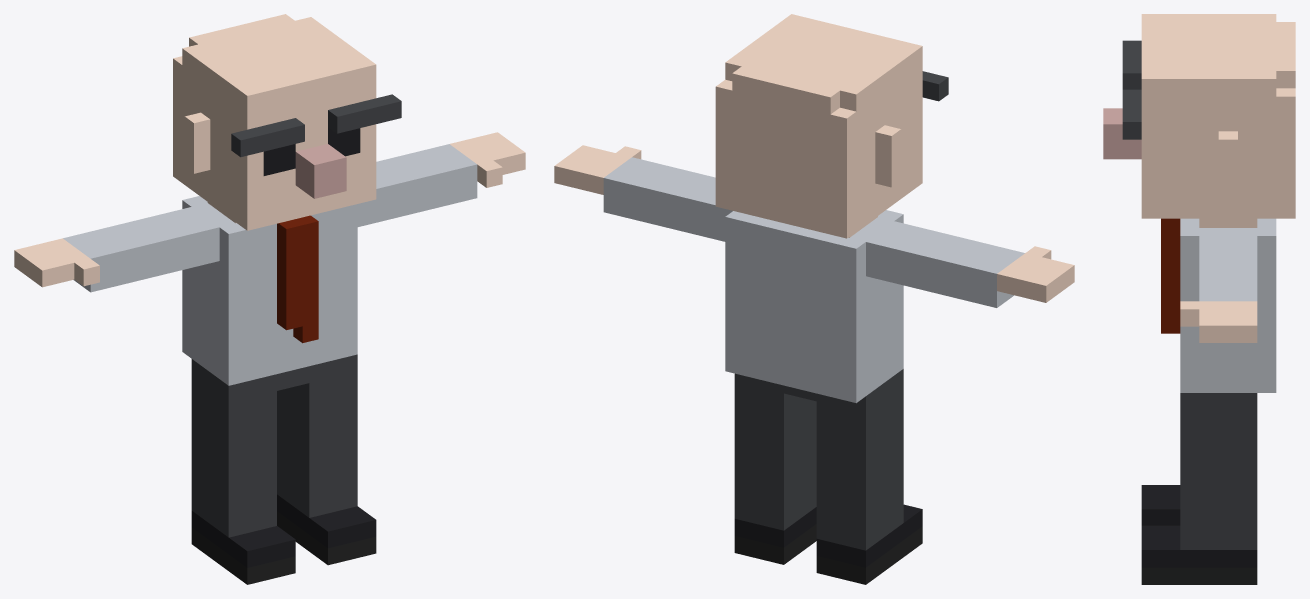
File: professor.obj
3 renders of one model, left to right at view 1: azimuth 30°, elevation 25°; view 2: azimuth 150°, elevation 25°; view 3: azimuth 270°, elevation 25°, orthographic. The views are drawn at different scales.
Bounding box in the file's own units: 3 × 2.9 × 1.
Materials: 1 (1 with a texture image).
